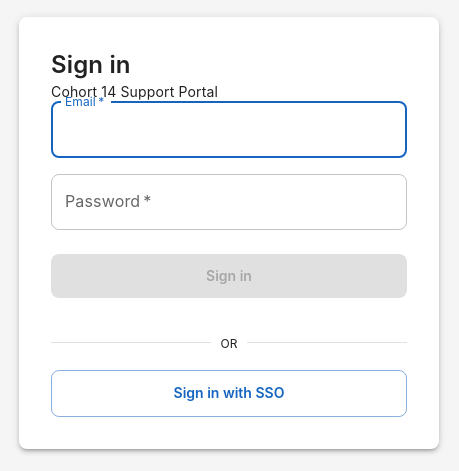
Scenario: LoginPage › enables submit once email and password are filled
Type "a@b.com" into the field labelled "Email *" at (229, 130), box [51,102,407,158]
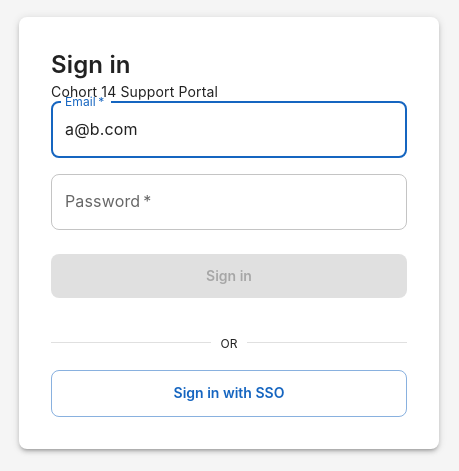
Type "password" into the password field labelled "Password *" at (229, 202), box [51,174,407,230]
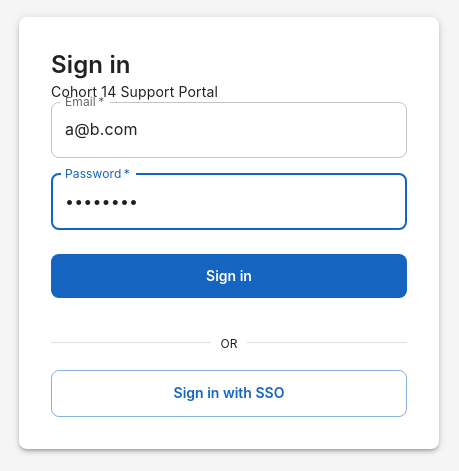
Result: the button "Sign in" is enabled at [51,254,407,298]
